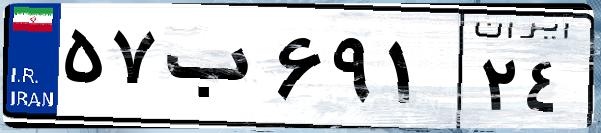1: (385, 28, 445, 110)
2: (475, 38, 525, 113)
4: (525, 38, 570, 115)
5: (57, 26, 110, 100)
6: (270, 28, 330, 110)
7: (110, 28, 158, 98)
9: (330, 28, 385, 110)
ب: (158, 20, 270, 120)
